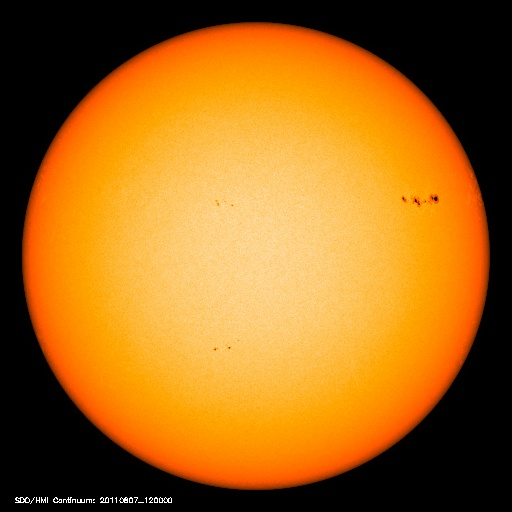sunspot: (395, 185, 446, 214), (200, 335, 245, 361), (207, 193, 239, 212)
